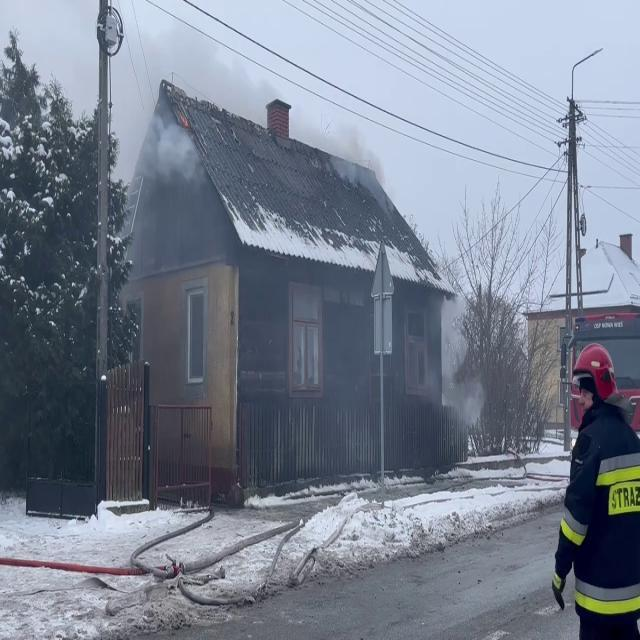Smoke: (433, 286, 487, 454), (130, 94, 200, 184)
